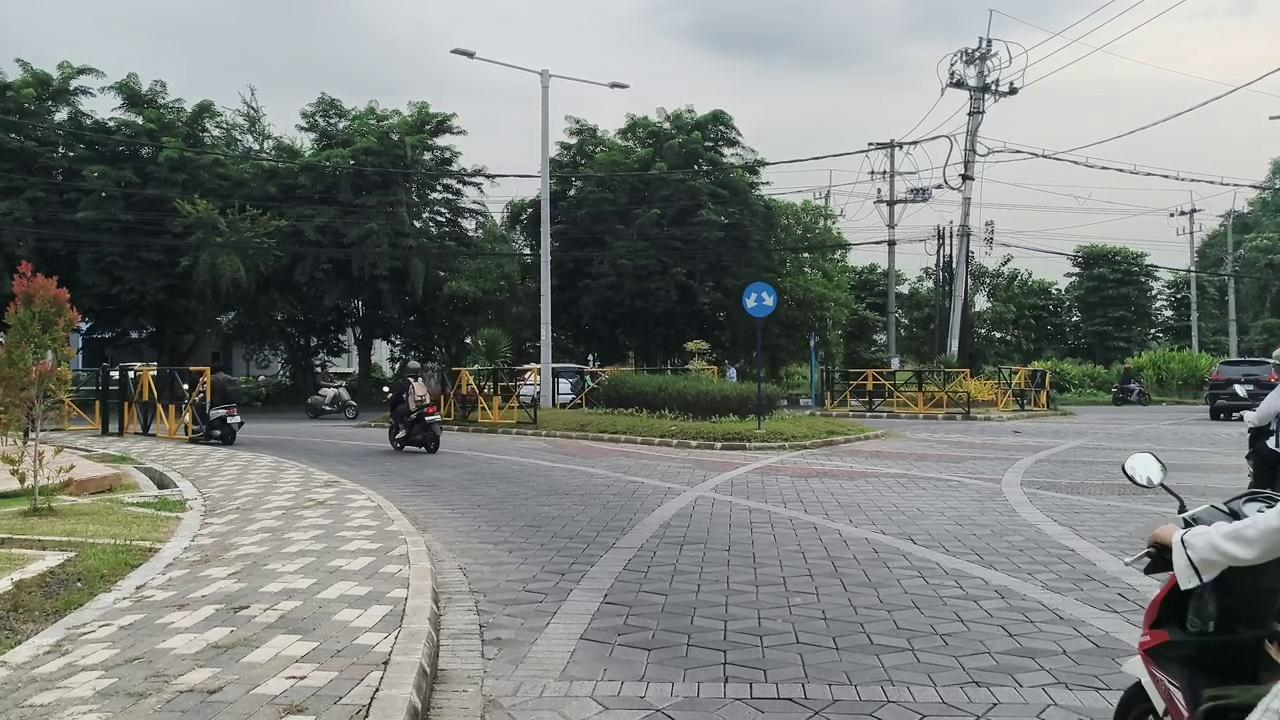Helmet: (1149, 511, 1279, 589), (1241, 386, 1279, 490), (391, 361, 429, 438), (1118, 364, 1139, 401)
Motor: (1114, 548, 1279, 719), (189, 391, 243, 445), (388, 404, 442, 453), (305, 383, 358, 420), (1111, 383, 1150, 406)
